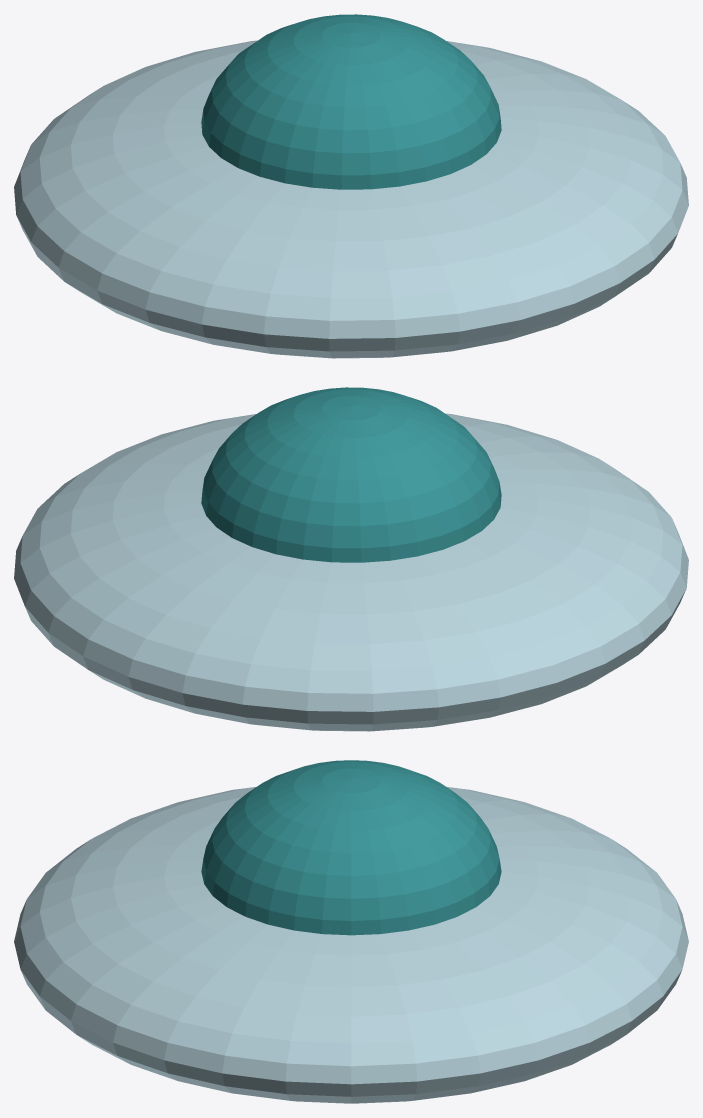
Rendered from ufo.glb.
3 views of the same model, one above another, from view 1: azimuth 30°, elevation 25°; view 2: azimuth 150°, elevation 25°; view 3: azimuth 270°, elevation 25° (orthographic).
Visible parts, largest first — view 1: Sphere, Sphere.001; view 2: Sphere, Sphere.001; view 3: Sphere, Sphere.001.
Boxes of the visible parts, box(x1,y1,x2,y2) form: Sphere: box(14, 40, 688, 358); Sphere.001: box(201, 14, 501, 189); Sphere: box(14, 413, 688, 731); Sphere.001: box(201, 387, 501, 562); Sphere: box(14, 787, 688, 1103); Sphere.001: box(201, 760, 501, 935).
Size of the model in its own units: 7.81 by 3.08 by 7.81.
